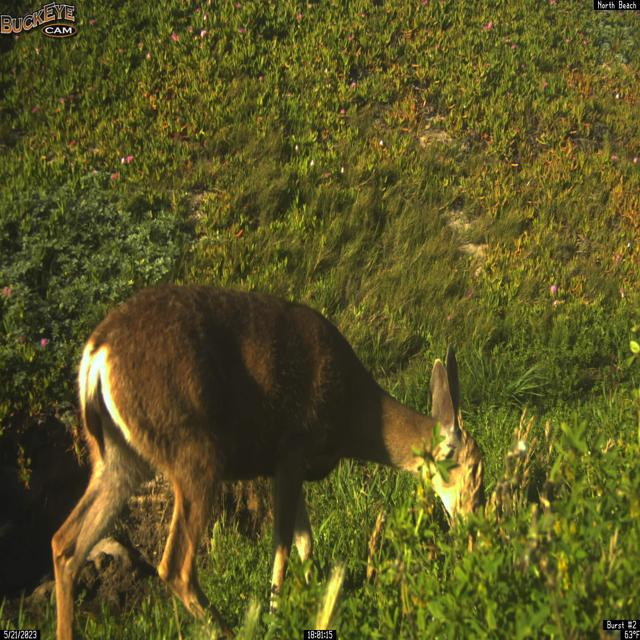deer: (50, 281, 488, 640)
